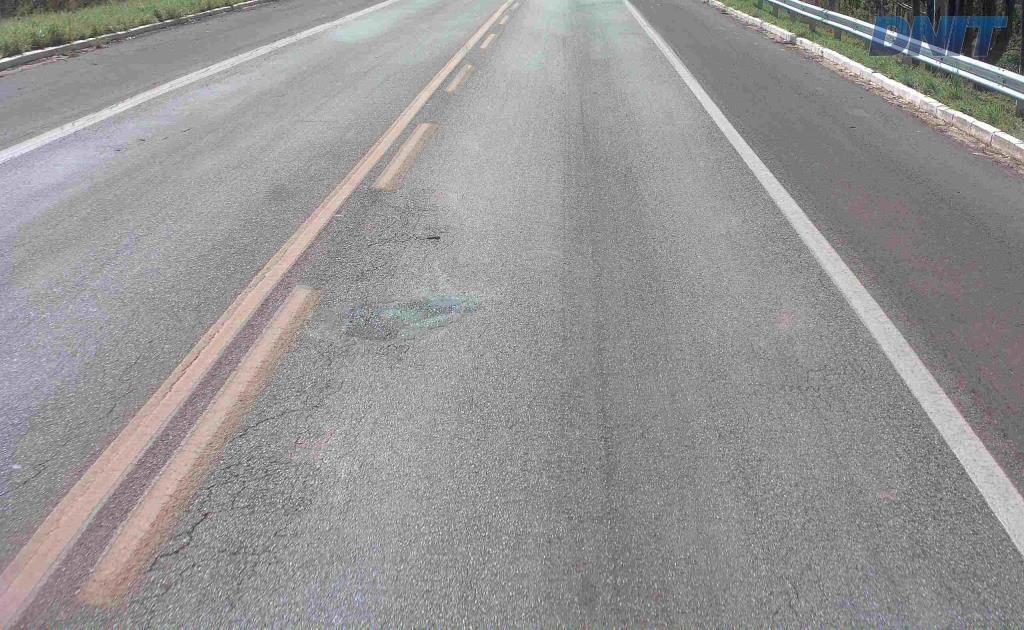pothole: (419, 232, 442, 243)
